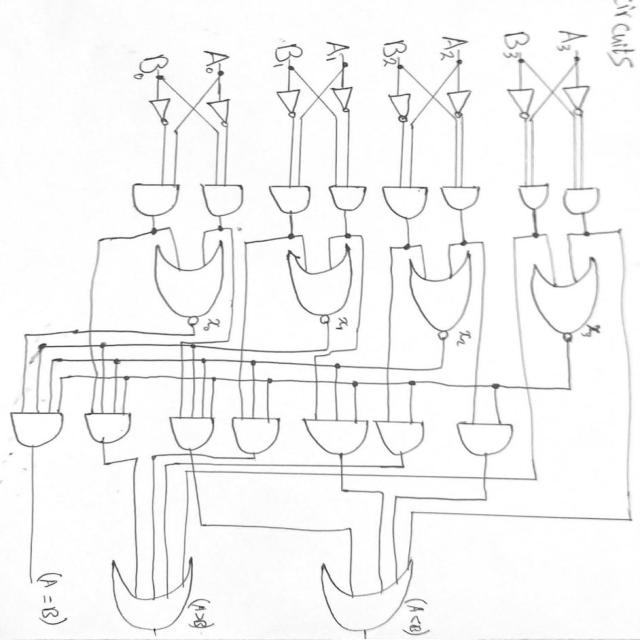AND: (299, 413, 370, 459), (452, 417, 516, 460), (5, 407, 68, 450), (229, 412, 285, 457), (558, 176, 612, 220), (162, 411, 218, 453), (376, 416, 432, 458), (197, 179, 251, 222), (376, 179, 431, 221), (124, 179, 186, 216), (81, 410, 140, 446), (265, 179, 317, 219), (438, 178, 488, 216), (327, 178, 370, 218), (514, 179, 554, 216)
NOR: (527, 250, 608, 344), (146, 238, 230, 328), (404, 248, 479, 342), (281, 242, 357, 324)
NOT: (501, 86, 542, 122), (268, 86, 304, 122), (141, 96, 179, 130), (326, 83, 364, 117), (204, 96, 241, 128), (560, 84, 596, 116), (384, 92, 417, 125), (445, 89, 477, 122)
OR: (314, 553, 414, 635), (102, 552, 198, 631)
